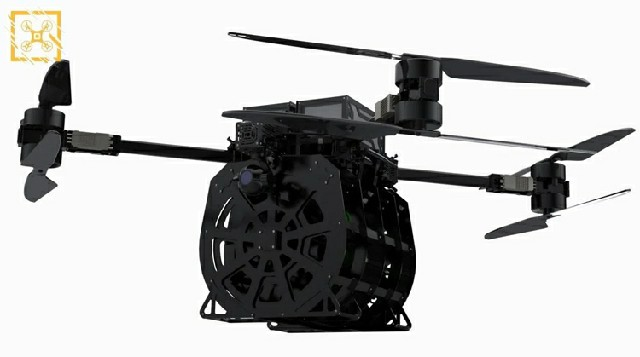maybay_khongnguoilai: (19, 32, 635, 341)
